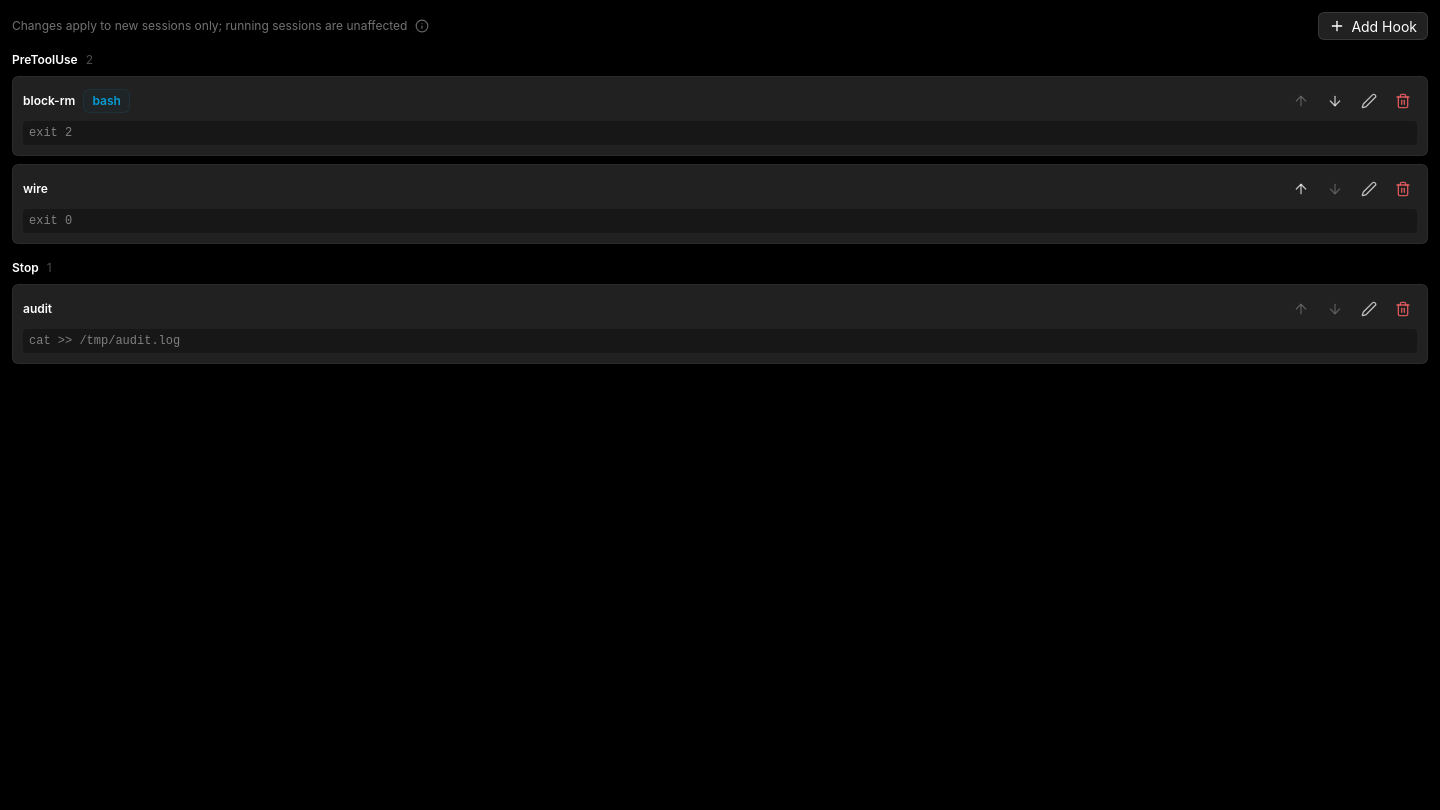
HooksSettings › 编辑条目保留透传字段 type/additionalContextLimit
Expected: the text "block-rm" is shown, [23,93,75,109]
Note: 编辑按钮顺序：block-rm、wire、audit。
Click the button named "Edit" in the row of "bash" at (1369, 101), box [1355,87,1383,115]
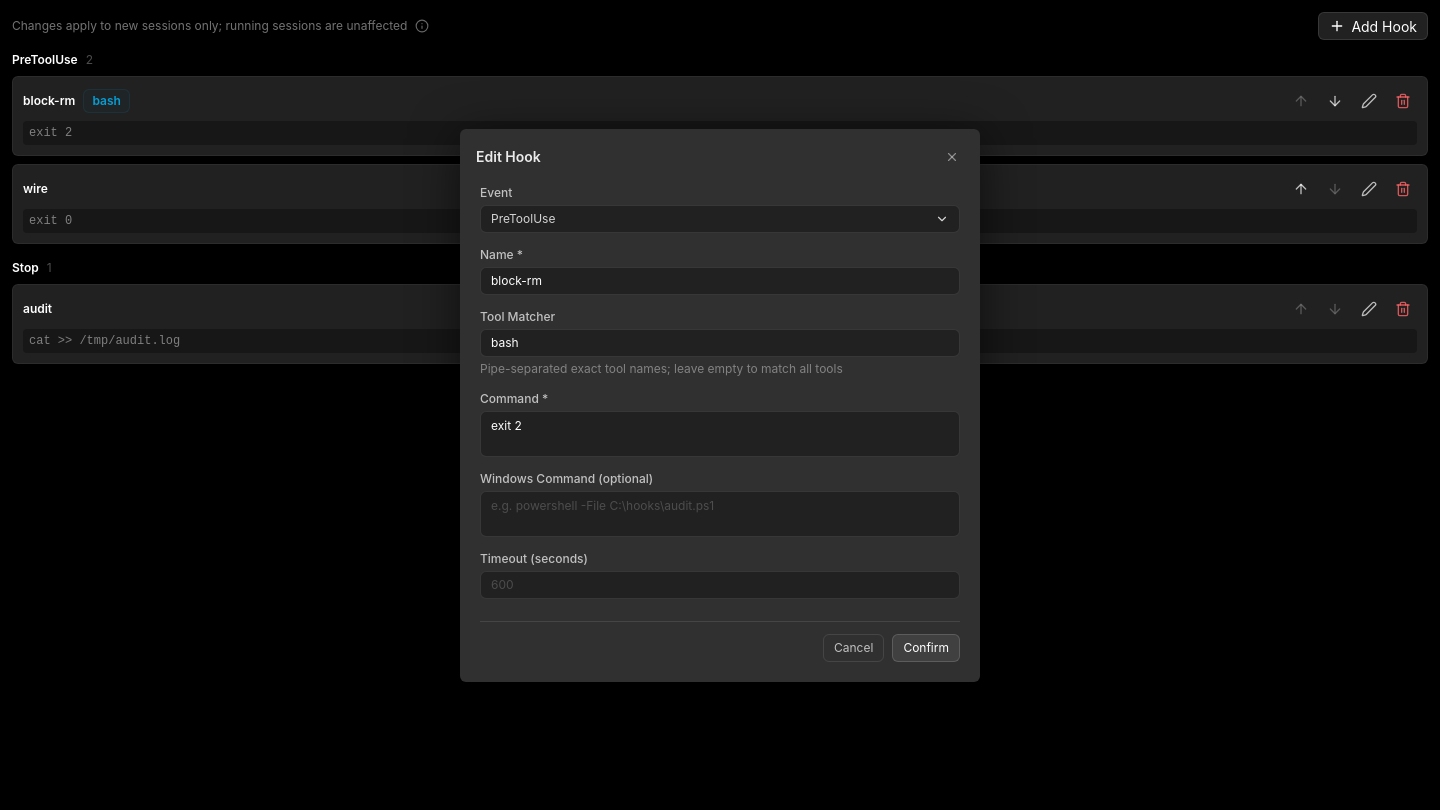
Replace the text in the text box showing "exit 2" with "exit 3" at (720, 434), box [491,418,949,450]
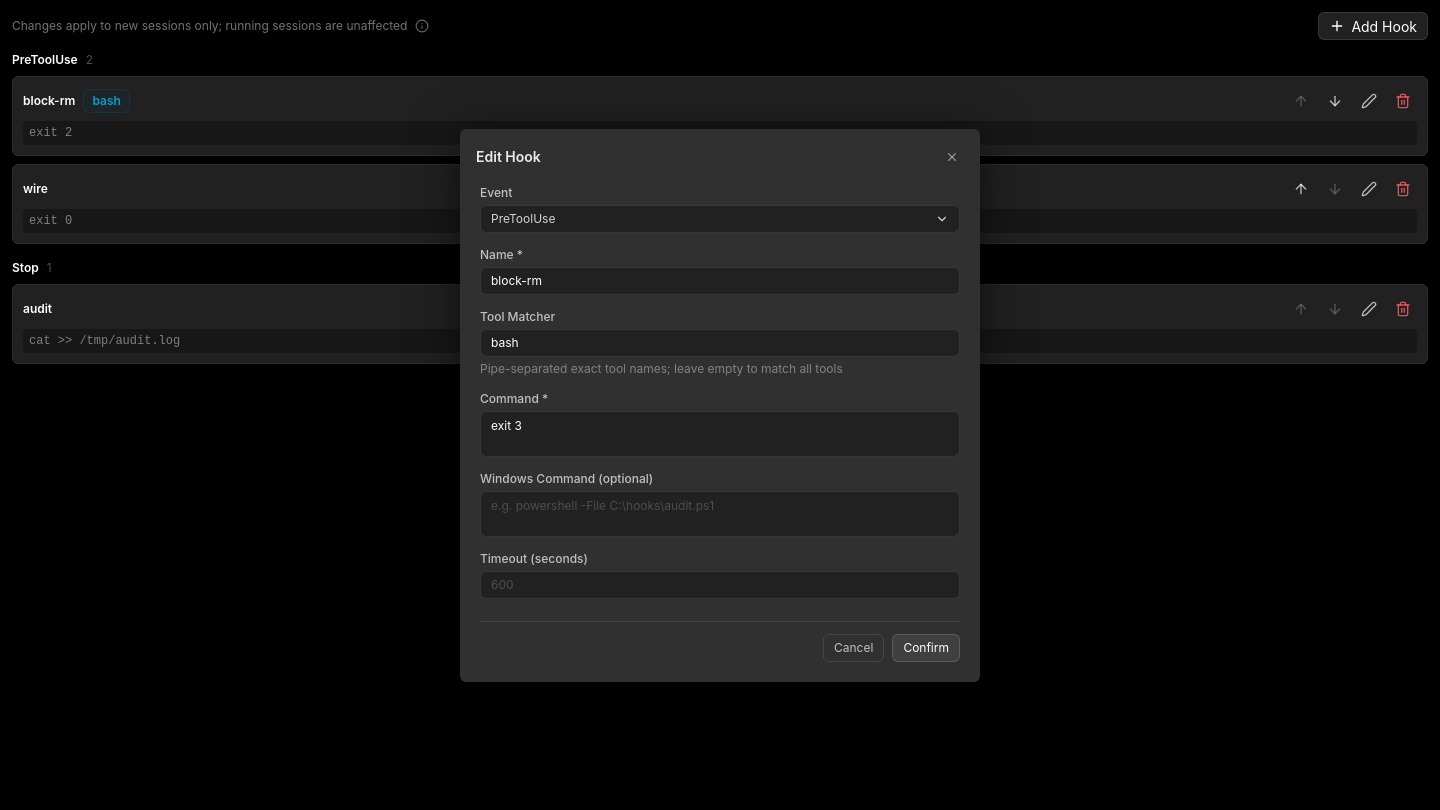
Click the button "Confirm" at (926, 648), box [892,634,960,662]
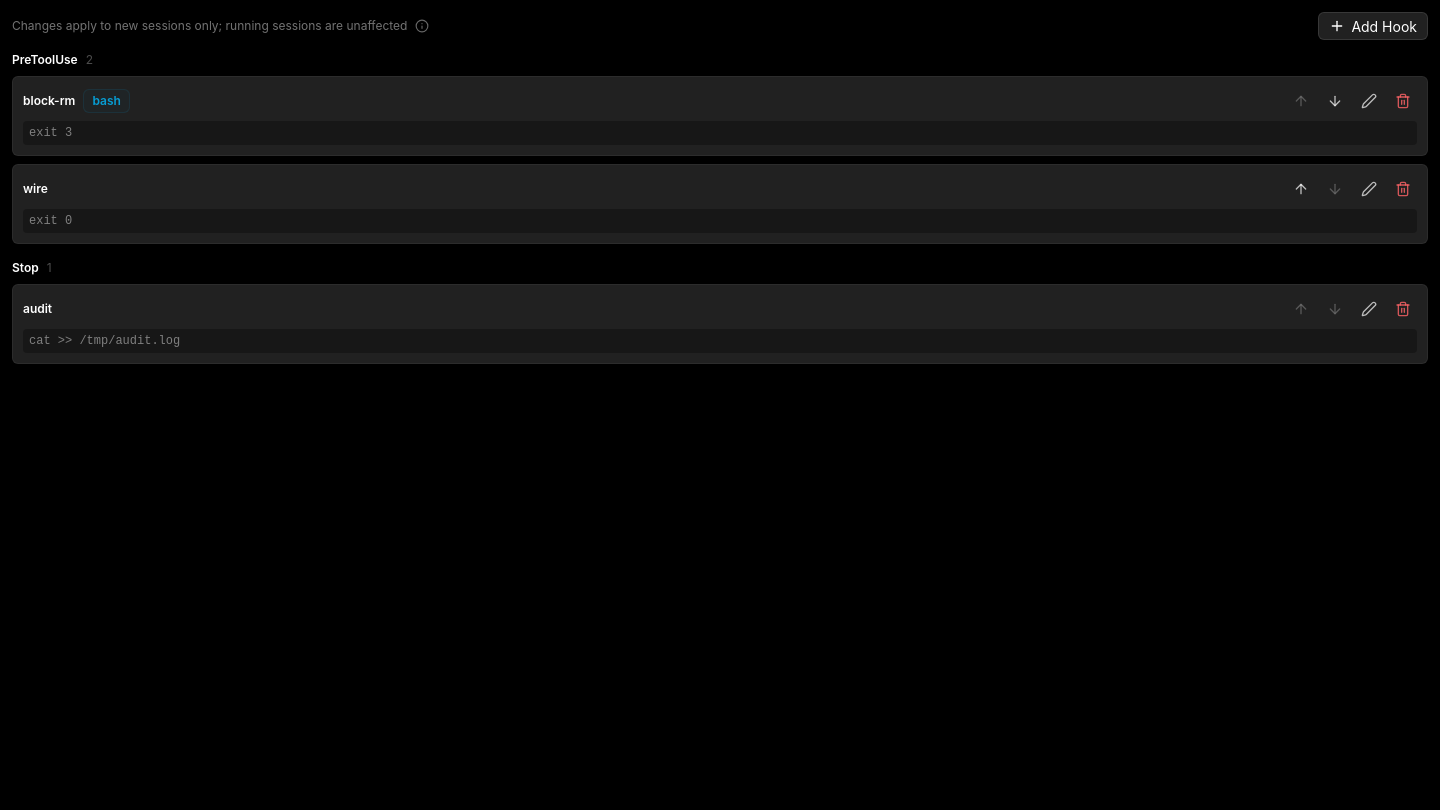
Expected: the text "bash" is shown, [92,95,121,107]
Now the text "exit 3" is shown, box [23,121,1417,145]
